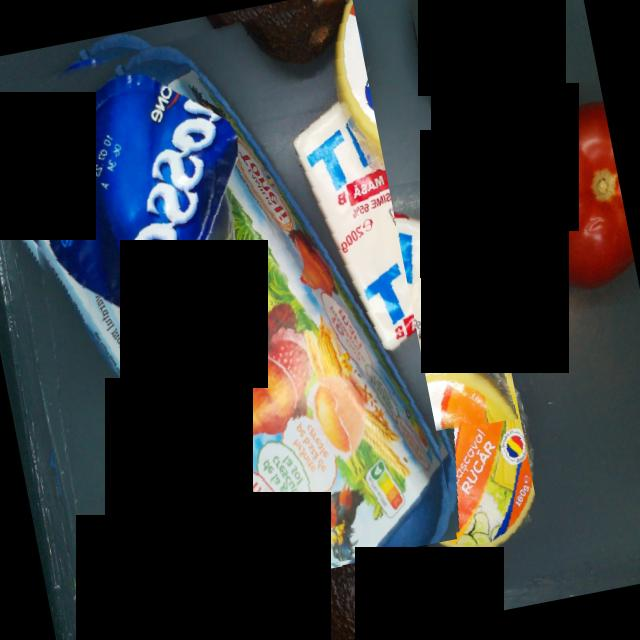avocado: (297, 488, 442, 640), (405, 0, 548, 114)
butter: (282, 170, 518, 456)
cheese: (365, 340, 546, 575)
eggs: (0, 0, 457, 611)
tomatoes: (493, 100, 638, 300)
yogurt: (46, 310, 289, 586)
